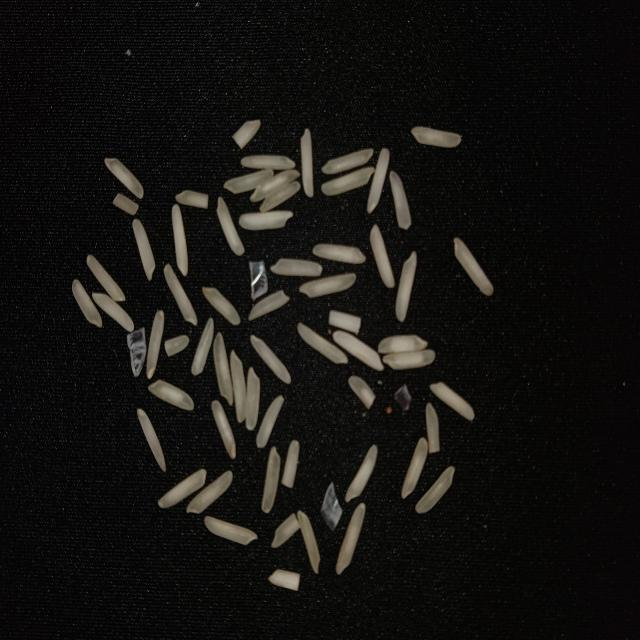Broken: (248, 291, 292, 322), (389, 172, 411, 230), (411, 127, 462, 148), (271, 513, 299, 549), (281, 439, 300, 488), (348, 375, 375, 409), (232, 119, 261, 148), (328, 310, 362, 334), (426, 402, 440, 454), (268, 570, 300, 592), (175, 190, 209, 209), (164, 335, 190, 358), (112, 193, 138, 215)
Full: (453, 238, 494, 296), (298, 323, 350, 365), (164, 264, 198, 327), (336, 501, 365, 574), (186, 470, 234, 514), (333, 330, 384, 371), (250, 335, 291, 384), (345, 444, 378, 504), (415, 465, 455, 514), (158, 469, 206, 509), (137, 408, 166, 473), (86, 255, 126, 301), (250, 169, 303, 203), (217, 196, 246, 256), (370, 224, 396, 290), (429, 382, 474, 420), (92, 293, 134, 333), (104, 158, 144, 199), (401, 437, 427, 499), (202, 286, 242, 326), (395, 251, 417, 323), (322, 167, 376, 196), (203, 517, 257, 546), (297, 510, 321, 575), (213, 332, 234, 406), (148, 379, 196, 411), (368, 148, 391, 214), (256, 395, 284, 449), (132, 219, 156, 281), (72, 279, 102, 328), (211, 399, 235, 460), (300, 273, 358, 297), (192, 317, 215, 377), (261, 445, 281, 514), (321, 148, 374, 174), (258, 180, 301, 212), (146, 309, 165, 380), (230, 350, 247, 423), (224, 170, 273, 194), (172, 204, 188, 277), (382, 350, 436, 370), (299, 126, 314, 198), (240, 210, 295, 229), (312, 244, 367, 263), (377, 334, 428, 354), (246, 366, 261, 430), (269, 260, 322, 278), (242, 156, 298, 171)
